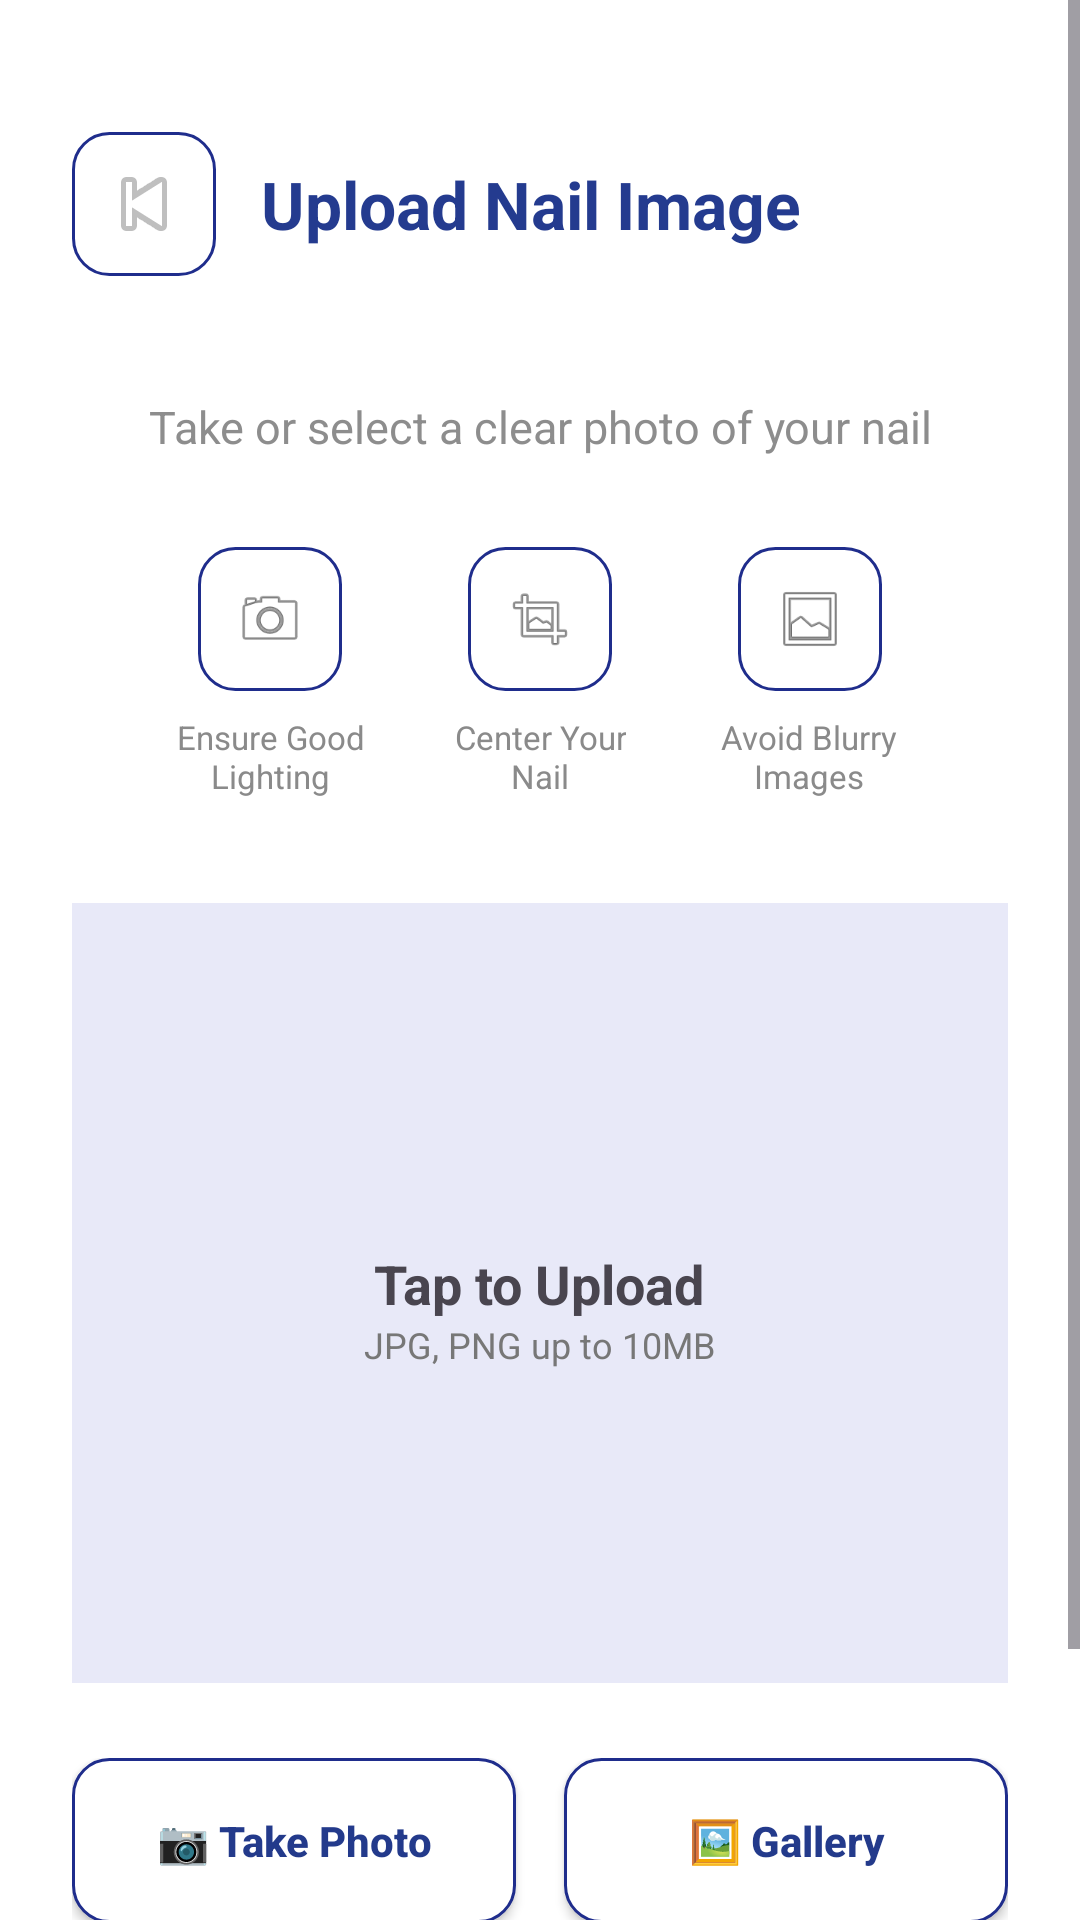

Where to tap for icons on this 1080*1920 app screen, as [x,y]:
Back: [144,204]
